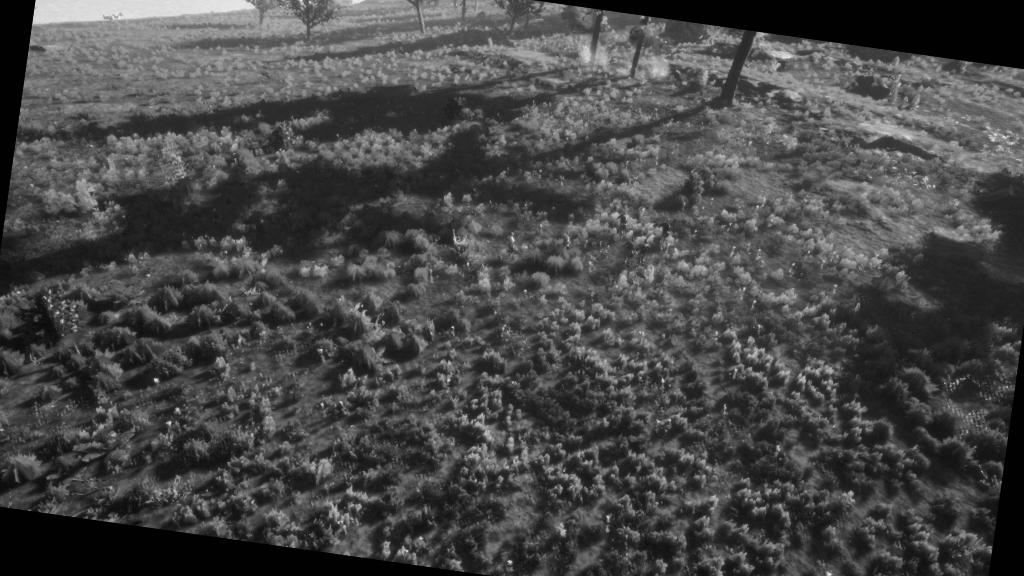Fire: (615, 32, 680, 90), (568, 26, 616, 70)
human: (654, 214, 678, 252), (500, 228, 524, 264), (555, 226, 578, 259), (618, 234, 640, 268), (610, 208, 630, 243), (633, 237, 654, 269)
